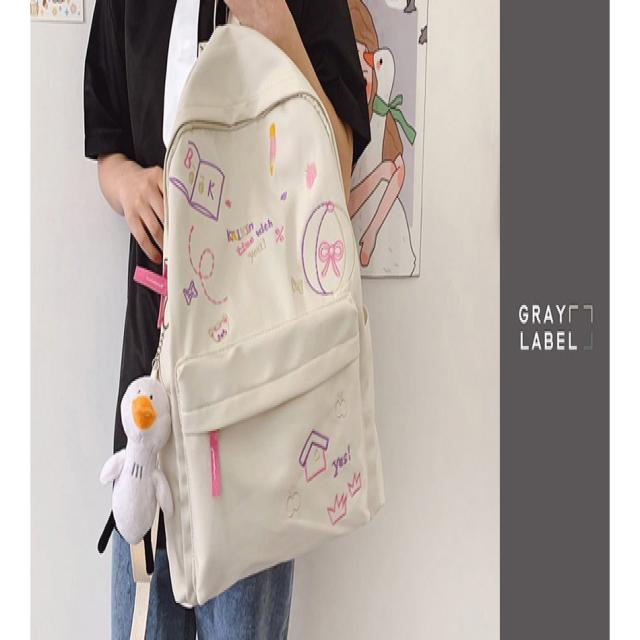backpack: (135, 66, 391, 611)
